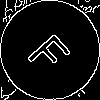F: (25, 25, 79, 78)
